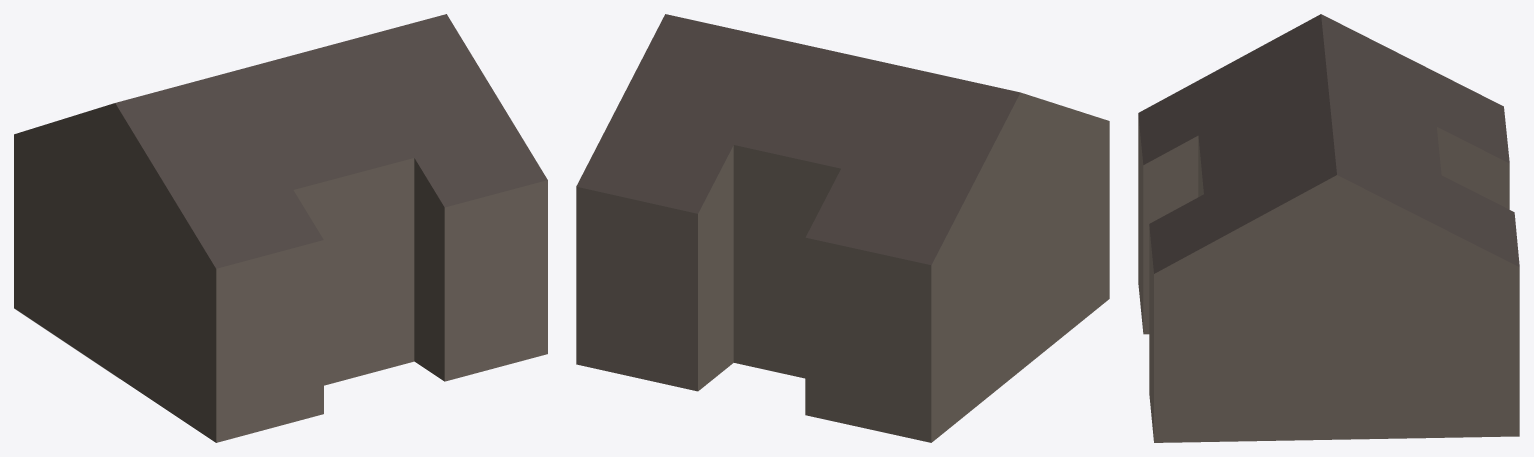
The picture shows the model from 3 angles, left to right: view 1: azimuth 30°, elevation 25°; view 2: azimuth 150°, elevation 25°; view 3: azimuth 270°, elevation 25°; orthographic projection. The views are drawn at different scales.
Parts seen in each view (by area): view 1: HP-w858807400; view 2: HP-w858807400; view 3: HP-w858807400.
Part boxes in pixels (x1,y1,x2,y2): HP-w858807400: [14, 14, 547, 442]; HP-w858807400: [576, 14, 1109, 442]; HP-w858807400: [1138, 14, 1519, 442].
Size of the model in its own units: 12.76 by 9.41 by 12.28.
